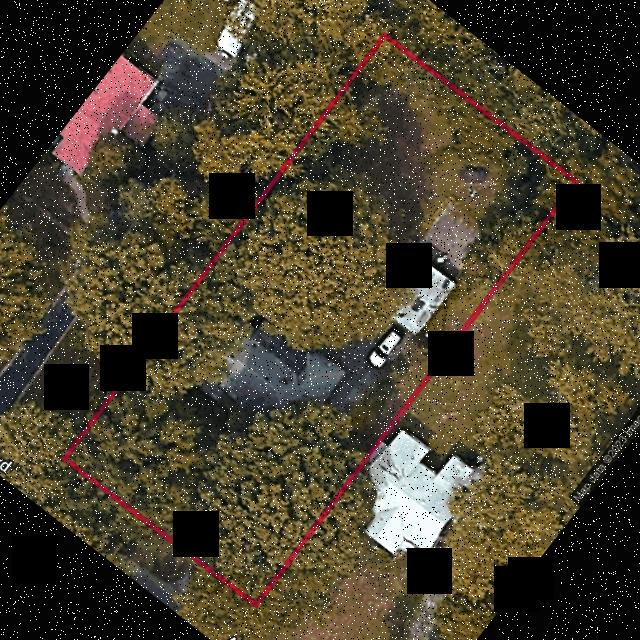Driveway: (323, 320, 413, 414)
House: (203, 316, 346, 451)
Other: (370, 249, 456, 336), (418, 203, 477, 279)
